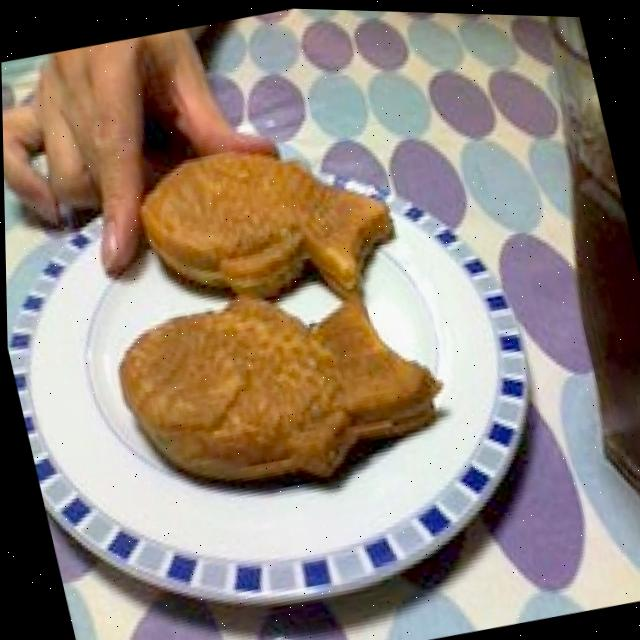熟制海鲜: (58, 101, 452, 516)
